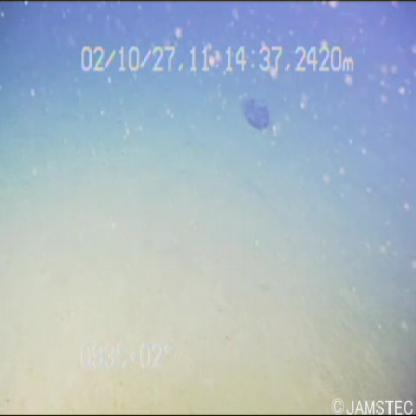Rác: (230, 89, 280, 132)
